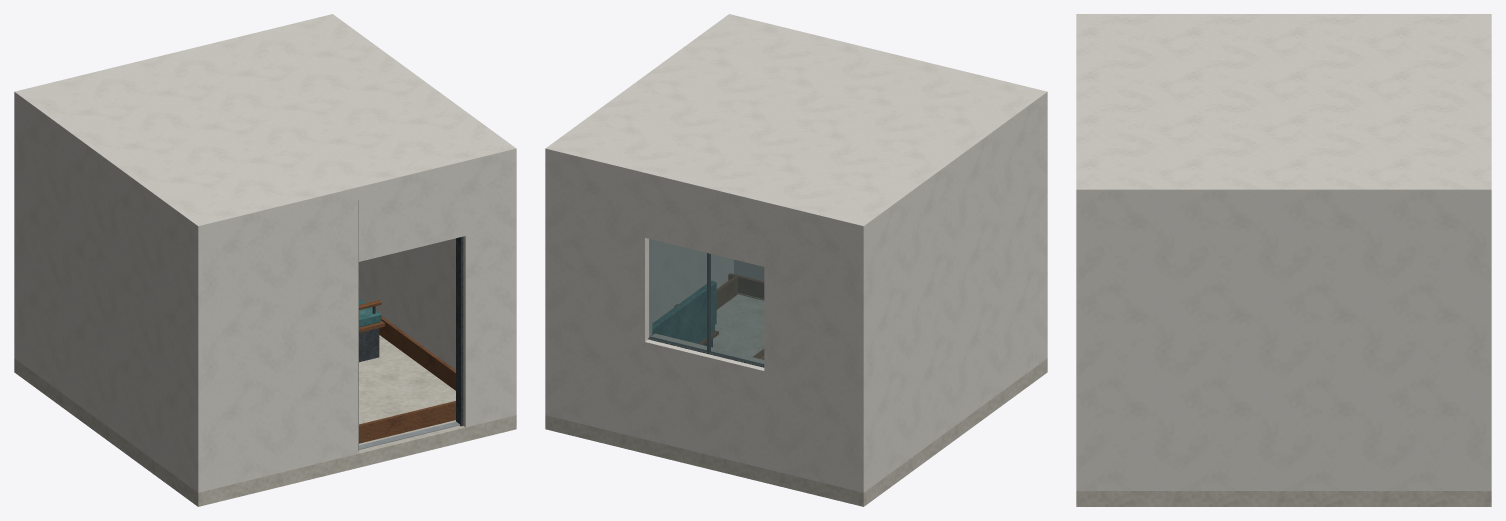
3 views of the same model, side by side, from view 1: azimuth 30°, elevation 25°; view 2: azimuth 150°, elevation 25°; view 3: azimuth 270°, elevation 25° (orthographic). The views are drawn at different scales.
Parts seen in each view (by area): view 1: VIS_Plaster_CUT, VIS_Plaster, VIS_Limestone, VIS_Walnut, VIS_Graphite; view 2: VIS_Plaster, VIS_Plaster_CUT, VIS_Glass, VIS_Limestone, VIS_FabricTeal, VIS_Walnut, VIS_Graphite; view 3: VIS_Plaster_CUT, VIS_Limestone, VIS_Plaster.
Boxes of the visible parts, x1,y1,x2,y2 form: VIS_Plaster_CUT: (14, 14, 516, 492); VIS_Plaster: (14, 98, 209, 492); VIS_Limestone: (14, 335, 516, 506); VIS_Walnut: (359, 300, 455, 443); VIS_Graphite: (358, 236, 463, 450); VIS_Plaster: (545, 98, 1047, 492); VIS_Plaster_CUT: (545, 14, 1047, 417); VIS_Glass: (649, 239, 764, 366); VIS_Limestone: (545, 294, 1047, 506); VIS_FabricTeal: (651, 281, 716, 343); VIS_Walnut: (674, 273, 763, 359); VIS_Graphite: (648, 253, 763, 367); VIS_Plaster_CUT: (1076, 14, 1491, 490); VIS_Limestone: (1076, 491, 1491, 506); VIS_Plaster: (1477, 198, 1491, 490).
Bounding box in the file's own units: 4 × 3.37 × 4.
Materials: 14 (14 with a texture image).
